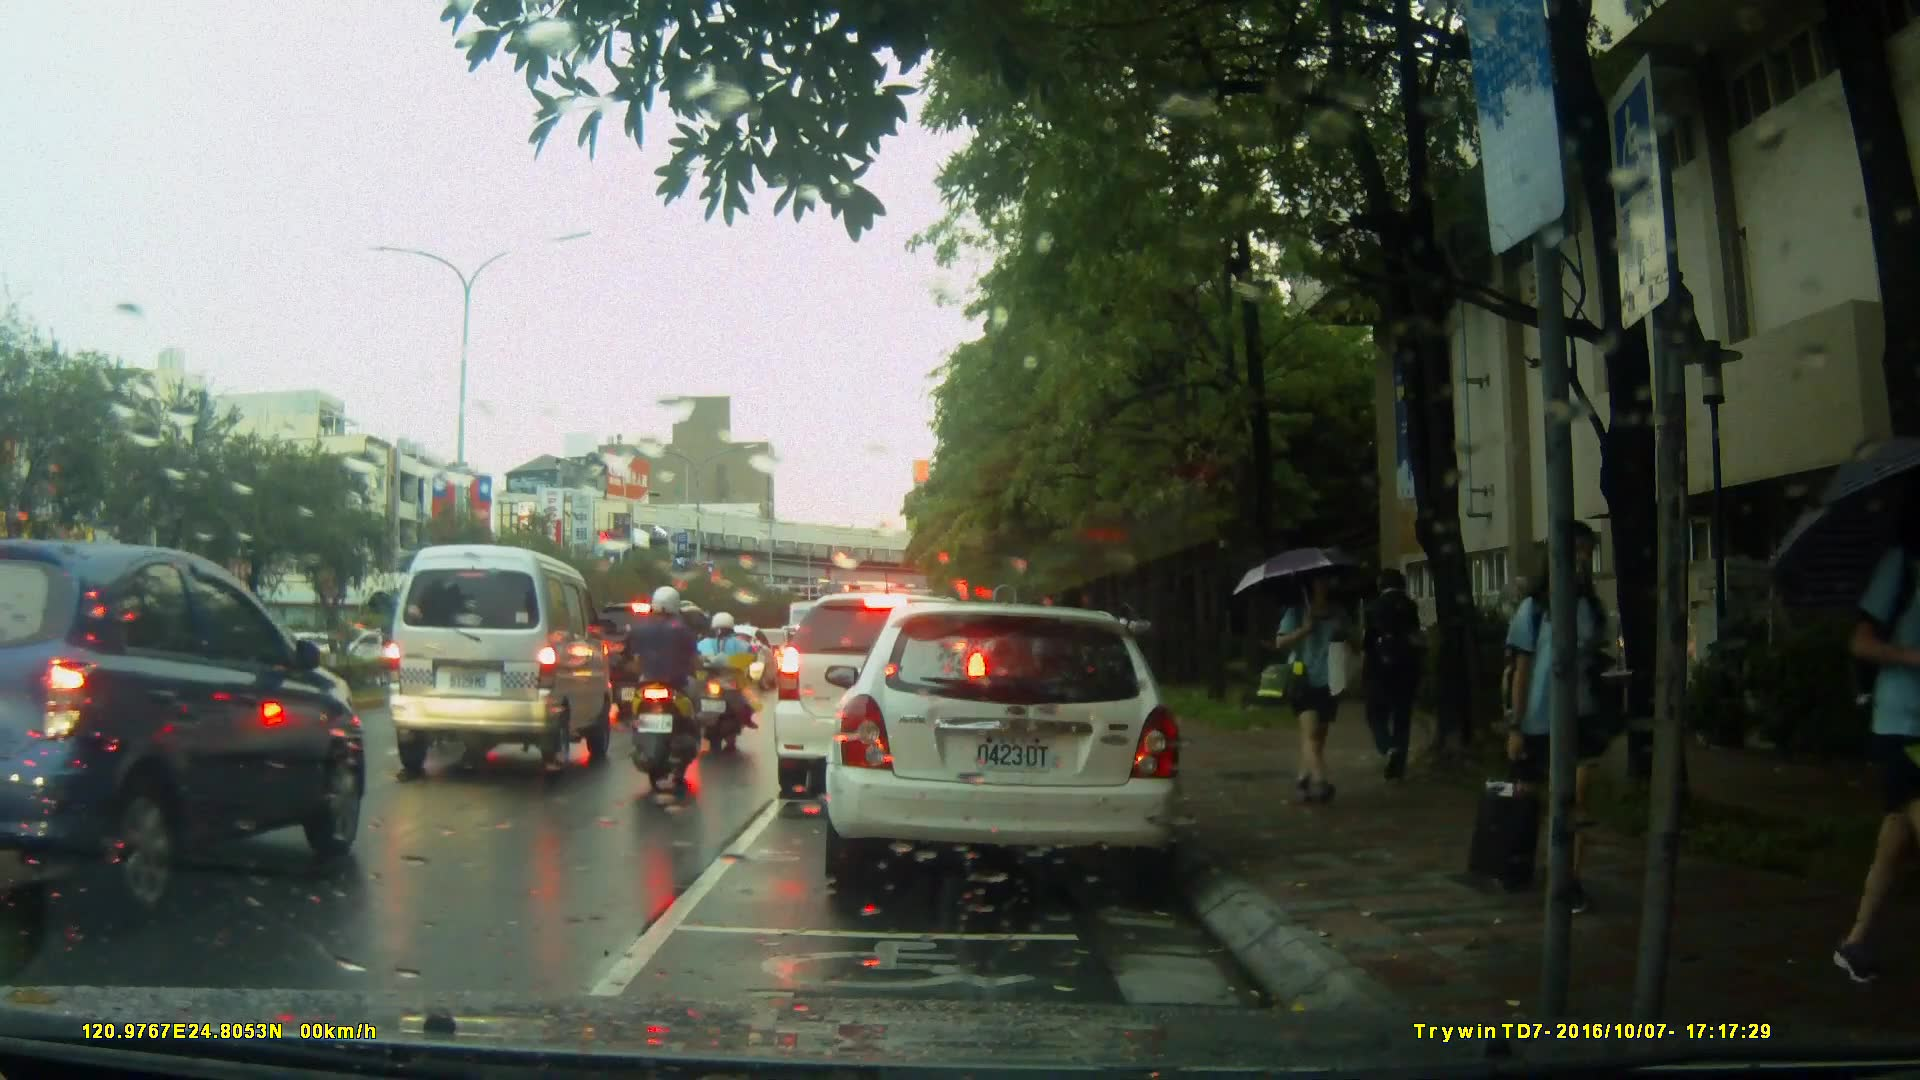pedestrian: (1810, 462, 1920, 1001), (1496, 504, 1622, 939), (1279, 555, 1352, 813), (1350, 564, 1430, 795)
rider: (631, 581, 707, 798), (690, 611, 754, 758)
vehicle: (3, 537, 370, 922), (815, 593, 1204, 909), (378, 543, 611, 776), (770, 590, 993, 802), (582, 603, 737, 725)
